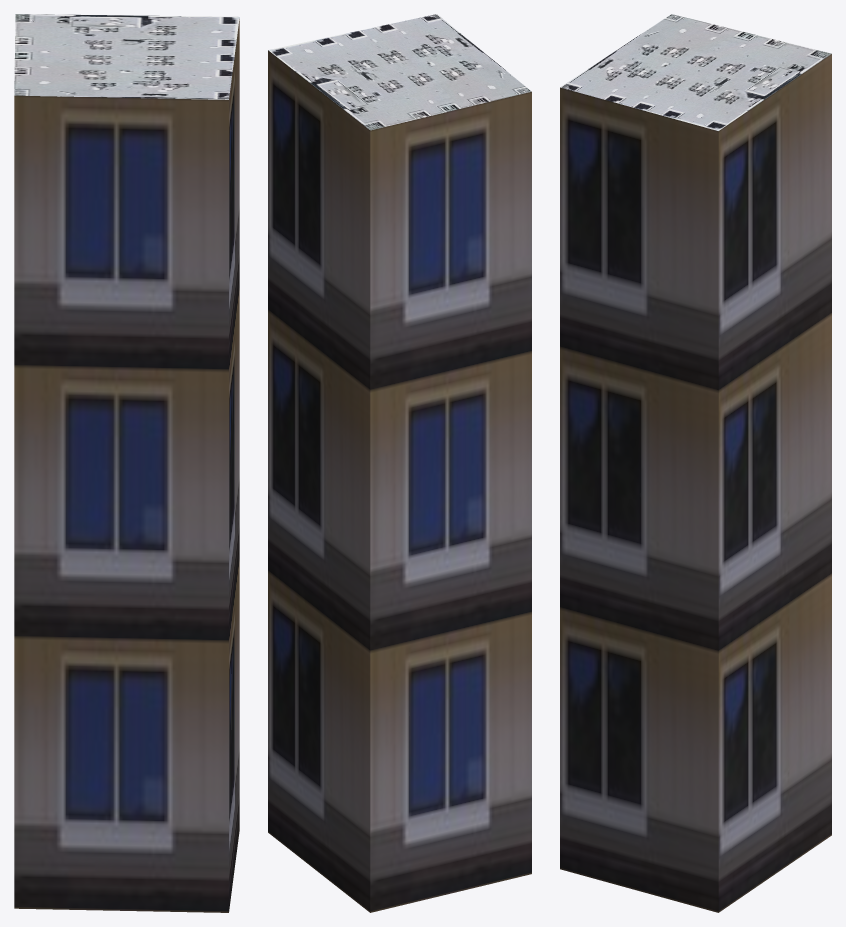
Rendered from ResTex__3411.fbx.
The picture shows the model from 3 angles, left to right: view 1: azimuth 30°, elevation 25°; view 2: azimuth 150°, elevation 25°; view 3: azimuth 270°, elevation 25°; orthographic projection. The views are drawn at different scales.
Parts seen in each view (by area): view 1: CityEngineMaterial_5_m, CityEngineMaterial_8_m; view 2: CityEngineMaterial_5_m, CityEngineMaterial_8_m; view 3: CityEngineMaterial_5_m, CityEngineMaterial_8_m.
Part boxes in pixels (x1,y1,x2,y2): CityEngineMaterial_5_m: [14, 19, 239, 912]; CityEngineMaterial_8_m: [14, 14, 239, 99]; CityEngineMaterial_5_m: [268, 50, 531, 912]; CityEngineMaterial_8_m: [268, 14, 531, 130]; CityEngineMaterial_5_m: [560, 54, 831, 912]; CityEngineMaterial_8_m: [560, 14, 831, 130].
Bounding box in the file's own units: 2.89 × 9 × 2.84.
Materials: 2 (2 with a texture image).
